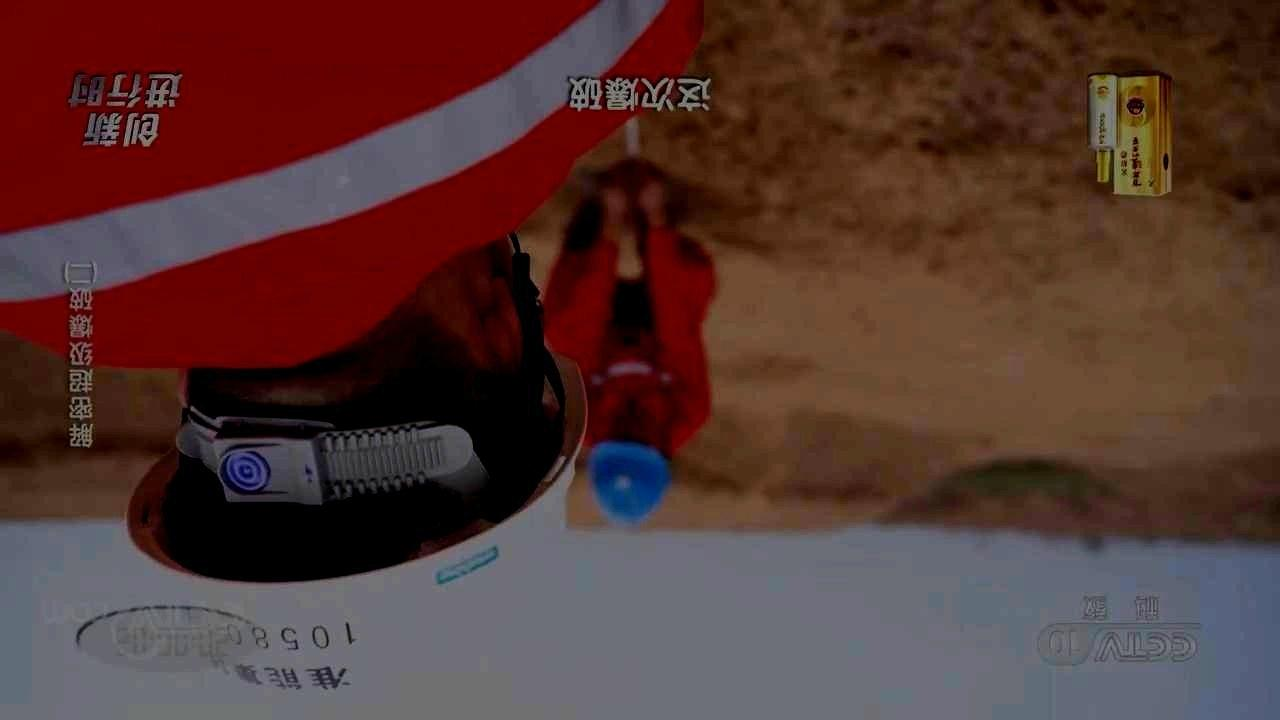helmet: (124, 230, 588, 711), (585, 398, 674, 533)
